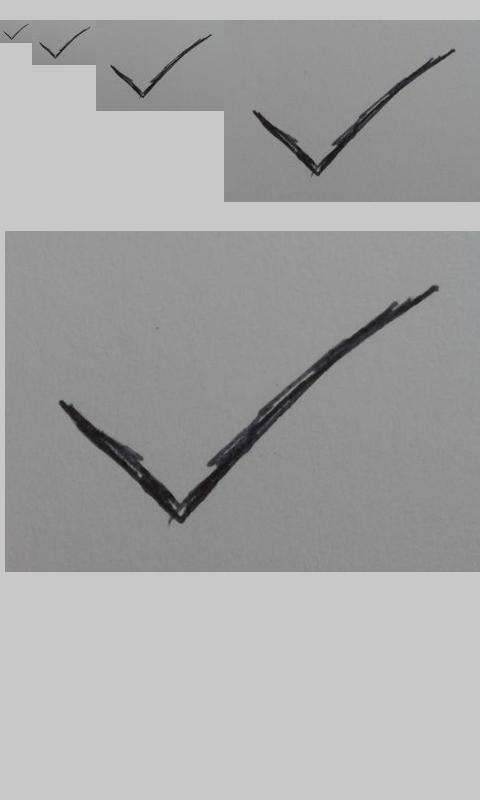check_box: (58, 286, 434, 524), (253, 49, 456, 176), (110, 34, 212, 98), (40, 27, 90, 59), (3, 24, 28, 40)
